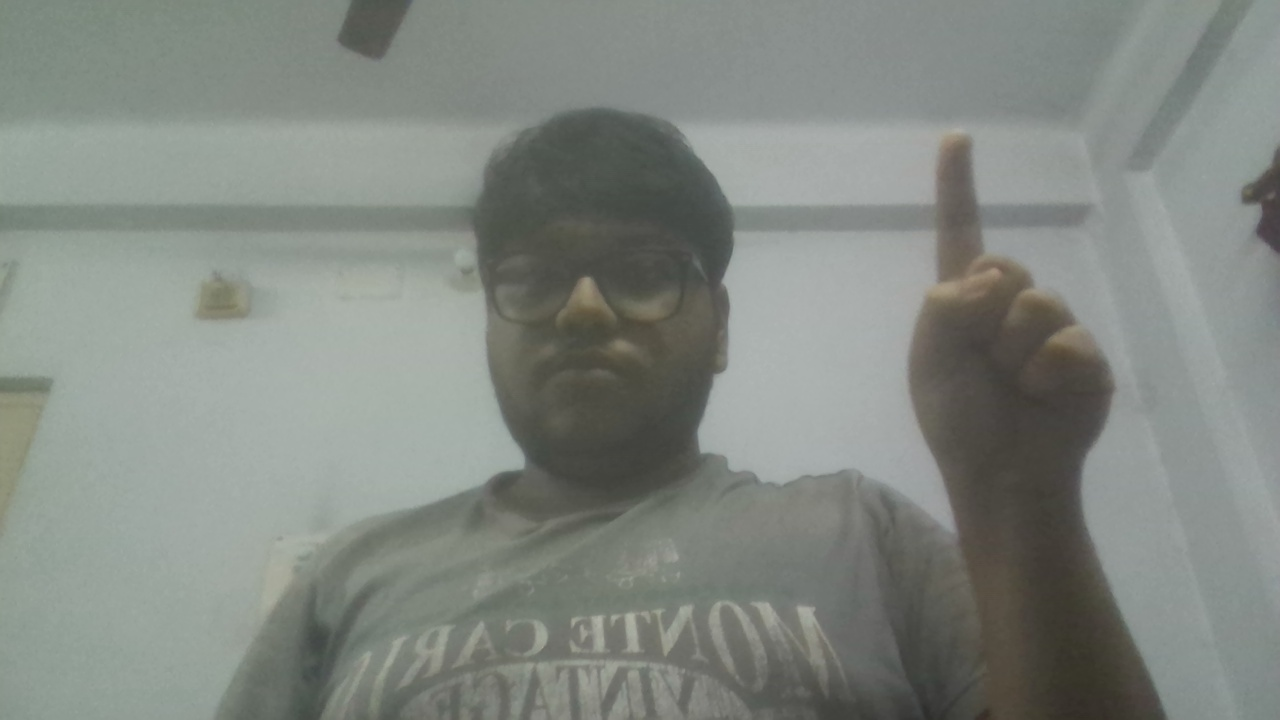Gesture1: (895, 124, 1126, 503)
